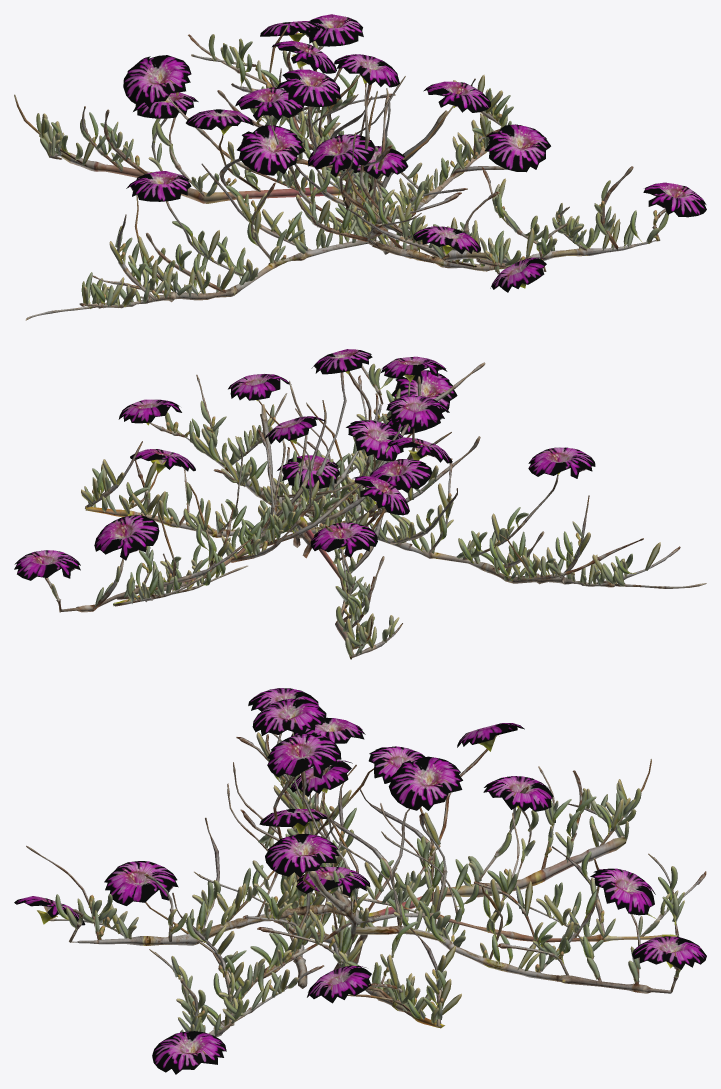
The model's file is plant3.gltf.
The picture shows the model from 3 angles, top to bottom: view 1: azimuth 30°, elevation 25°; view 2: azimuth 150°, elevation 25°; view 3: azimuth 270°, elevation 25°; orthographic projection. The views are drawn at different scales.
Visible parts, largest first — view 1: leipoldtia_schultzei_Large_LOD2; view 2: leipoldtia_schultzei_Large_LOD2; view 3: leipoldtia_schultzei_Large_LOD2.
Part boxes in pixels (bbox=[...]): leipoldtia_schultzei_Large_LOD2: bbox=[14, 14, 706, 320]; leipoldtia_schultzei_Large_LOD2: bbox=[14, 349, 706, 659]; leipoldtia_schultzei_Large_LOD2: bbox=[14, 688, 706, 1074].
Size of the model in its own units: 0.9287 by 0.2977 by 0.8131.
1 material, 1 textured.
